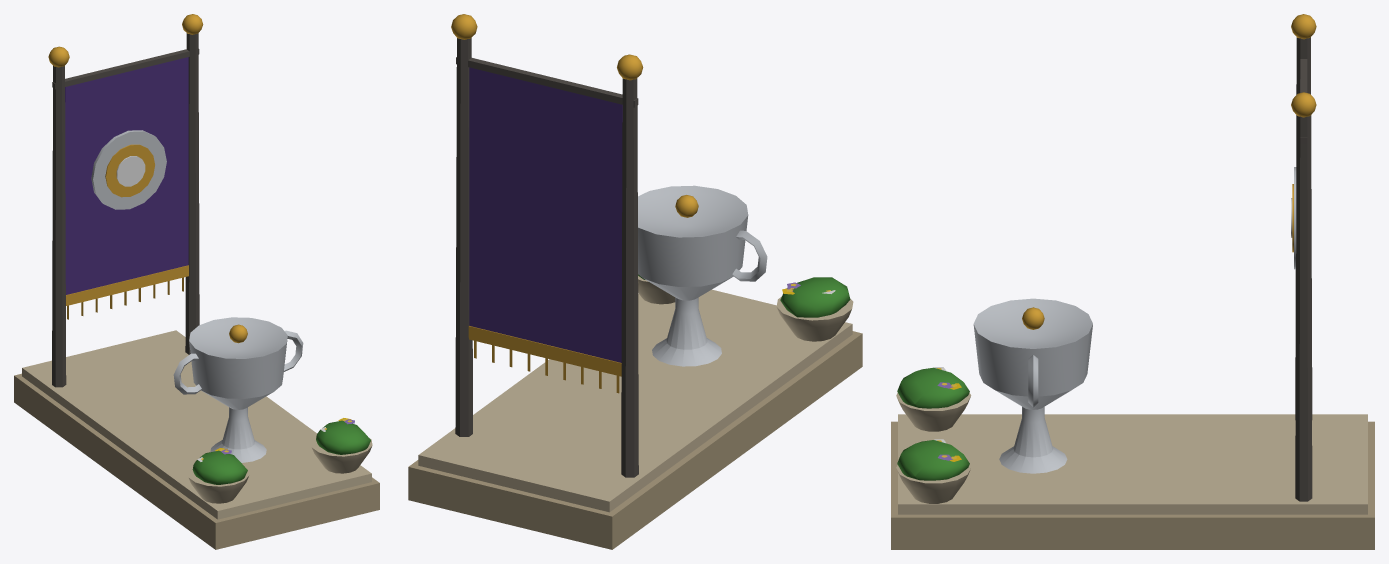
Rendered from champion_banner.glb.
The picture shows the model from 3 angles, left to right: view 1: azimuth 30°, elevation 25°; view 2: azimuth 150°, elevation 25°; view 3: azimuth 270°, elevation 25°; orthographic projection. The views are drawn at different scales.
Visible parts, largest first — view 1: decor-champion_banner; view 2: decor-champion_banner; view 3: decor-champion_banner.
Boxes of the visible parts, left/top/right/bottom form: decor-champion_banner: left=14, top=14, right=379, bottom=549; decor-champion_banner: left=408, top=14, right=862, bottom=549; decor-champion_banner: left=891, top=14, right=1374, bottom=549.
Bounding box in the file's own units: 1.71 × 3.47 × 3.4.
